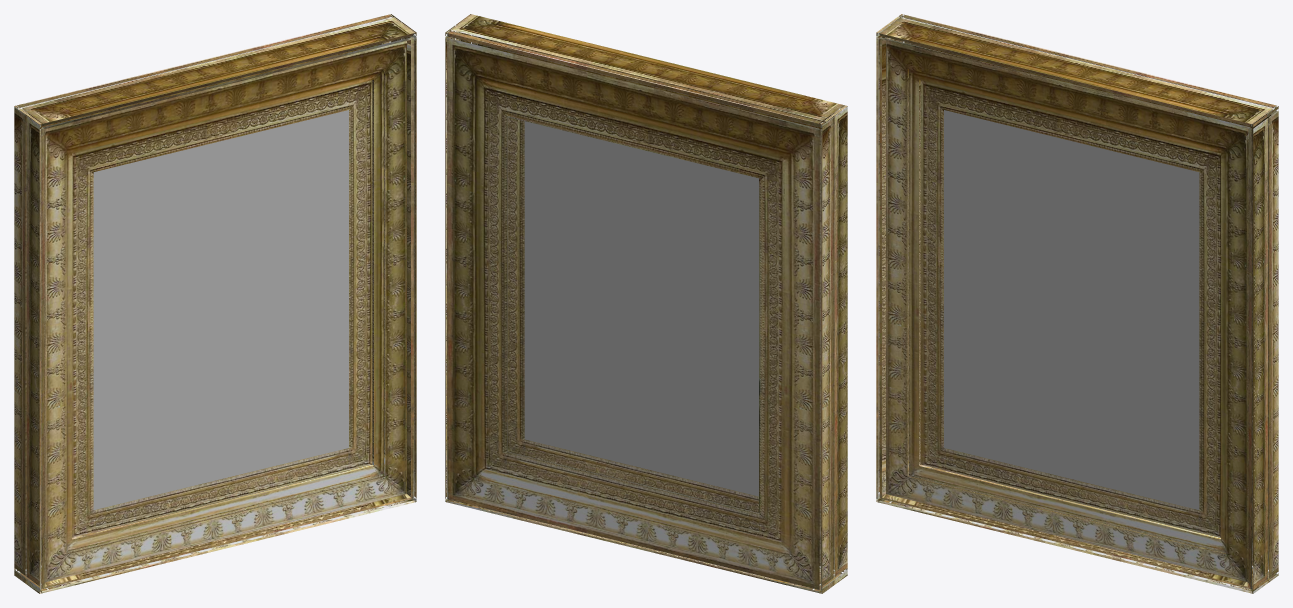
File: art4.fbx
The picture shows the model from 3 angles, left to right: view 1: azimuth 30°, elevation 25°; view 2: azimuth 150°, elevation 25°; view 3: azimuth 330°, elevation 25°; orthographic projection.
Visible parts, largest first — view 1: cadre_femmenoire, peinture_femmenoire; view 2: cadre_femmenoire, peinture_femmenoire; view 3: cadre_femmenoire, peinture_femmenoire.
Part boxes in pixels (<box>): cadre_femmenoire: <box>14,14,416,593</box>; peinture_femmenoire: <box>93,110,348,509</box>; cadre_femmenoire: <box>445,14,847,593</box>; peinture_femmenoire: <box>524,121,758,496</box>; cadre_femmenoire: <box>876,14,1278,593</box>; peinture_femmenoire: <box>944,110,1199,509</box>.
Size of the model in its own units: 420 by 500 by 48.92.
